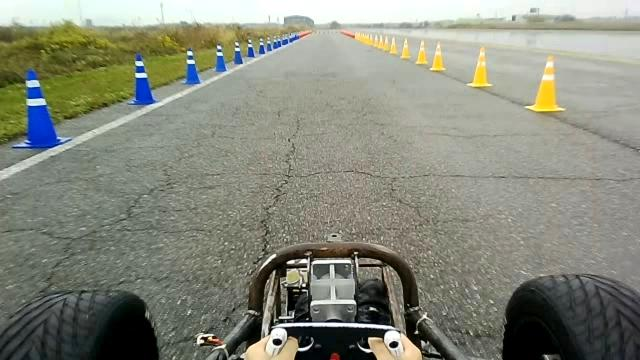blue cone: (11, 67, 72, 149), (127, 53, 158, 105), (182, 47, 201, 84), (213, 43, 228, 72), (233, 41, 244, 64), (246, 38, 256, 58), (258, 37, 266, 54), (266, 36, 272, 52), (273, 36, 279, 50)
yellow cone: (525, 55, 566, 112), (467, 46, 492, 88), (429, 41, 446, 71), (415, 39, 428, 65), (400, 37, 411, 59), (389, 36, 397, 55), (382, 35, 389, 52), (377, 35, 384, 49), (372, 34, 378, 48)
